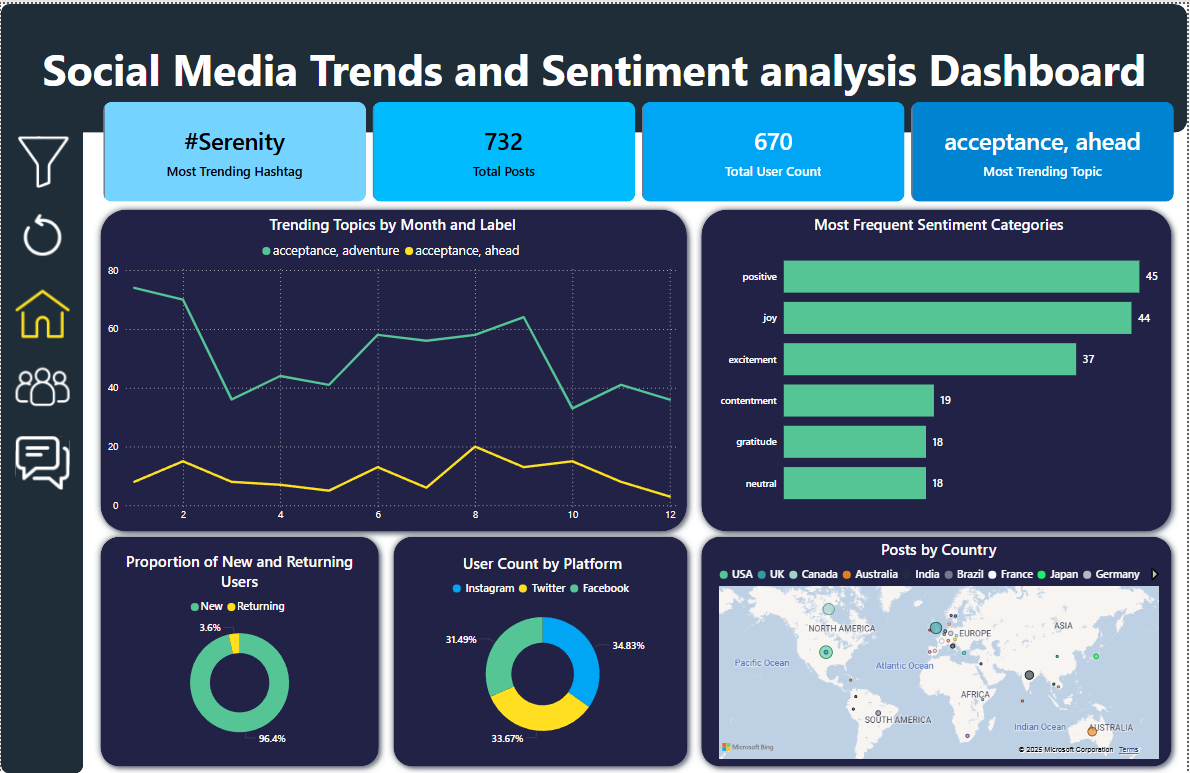

The page's visual inventory and layout, read from the dashboard file:
{"tool":"powerbi","page":{"name":"Home","canvas":[1480,960],"ordinal":0},"visuals":[{"type":"shape","box":[115.2,247.5,749.6,419.6],"z":0},{"type":"shape","box":[0,0,102.4,960.1],"z":1000},{"type":"shape","box":[0,0,1480.3,160.6],"z":2000},{"type":"cardVisual","fields":{"Data":["DAX calculations.Most Trending Hashtag","DAX calculations.Total Posts","DAX calculations.Total user count","DAX calculations.Most Trending Topic"]},"box":[122.3,116.6,1347,135.1],"z":3000},{"type":"lineChart","fields":{"Category":["Dates.Date","Dates.Month","Dates.Year"],"Y":["Sum(Topic TS.uses)"],"Series":["Topic Dim.ShortLabel"]},"box":[128,261.7,721.2,394],"z":4000},{"type":"shape","box":[115.1,656,365.1,304.5],"z":5000},{"type":"donutChart","title":"Proportion of New and Returning Users","fields":{"Y":["DAX calculations.Total user count"],"Category":["Posts.User Type"]},"box":[143.9,683.3,307.6,250],"z":6000},{"type":"shape","box":[865.1,247,604.5,419.7],"z":7000},{"type":"clusteredBarChart","title":"Most Frequent Sentiment Categories","fields":{"Category":["Posts.Sentiment"],"Y":["DAX calculations.Total Posts"]},"box":[890.4,261.7,559,382.6],"z":8000},{"type":"shape","box":[480.3,656,384.8,304.5],"z":9000},{"type":"donutChart","title":"User Count by Platform","fields":{"Category":["Posts.Platform"],"Y":["DAX calculations.Total user count"]},"box":[501.5,684.8,346.9,250],"z":10000},{"type":"shape","box":[865.1,656,604.5,304.5],"z":11000},{"type":"map","title":"Posts by Country","fields":{"Category":["Posts.Country"],"Size":["DAX calculations.Total Posts"],"Series":["Posts.Country"]},"box":[890.8,666.6,559,280.3],"z":12000},{"type":"actionButton","box":[8.5,348.5,86.8,75.4],"z":13000,"group":"g1"},{"type":"actionButton","box":[2.8,160.7,101,72.5],"z":14000},{"type":"actionButton","box":[8.5,439.5,86.8,75.4],"z":14000,"group":"g1"},{"type":"group","id":"g1","title":"Group 1","box":[8.5,348.5,86.8,261.7],"z":15000},{"type":"actionButton","box":[8.5,534.8,86.8,75.4],"z":15000,"group":"g1"},{"type":"actionButton","box":[1.4,251.8,101,72],"z":16000}]}

Visuals, with their boxes on the page's 1480x960 design canvas (x1, y1, x2, y2). These are canvas units, not pixel positions in the 1190x773 screenshot, which may show the page scaled, cropped or inside an application window:
shape: rect(115, 248, 865, 667)
shape: rect(0, 0, 102, 960)
shape: rect(0, 0, 1480, 161)
cardVisual - DAX calculations.Most Trending Hashtag x DAX calculations.Total Posts: rect(122, 117, 1469, 252)
lineChart - Dates.Date x Dates.Month: rect(128, 262, 849, 656)
shape: rect(115, 656, 480, 960)
"Proportion of New and Returning Users" donutChart: rect(144, 683, 452, 933)
shape: rect(865, 247, 1470, 667)
"Most Frequent Sentiment Categories" clusteredBarChart: rect(890, 262, 1449, 644)
shape: rect(480, 656, 865, 960)
"User Count by Platform" donutChart: rect(502, 685, 848, 935)
shape: rect(865, 656, 1470, 960)
"Posts by Country" map: rect(891, 667, 1450, 947)
actionButton: rect(8, 348, 95, 424)
actionButton: rect(3, 161, 104, 233)
actionButton: rect(8, 440, 95, 515)
"Group 1" group: rect(8, 348, 95, 610)
actionButton: rect(8, 535, 95, 610)
actionButton: rect(1, 252, 102, 324)
